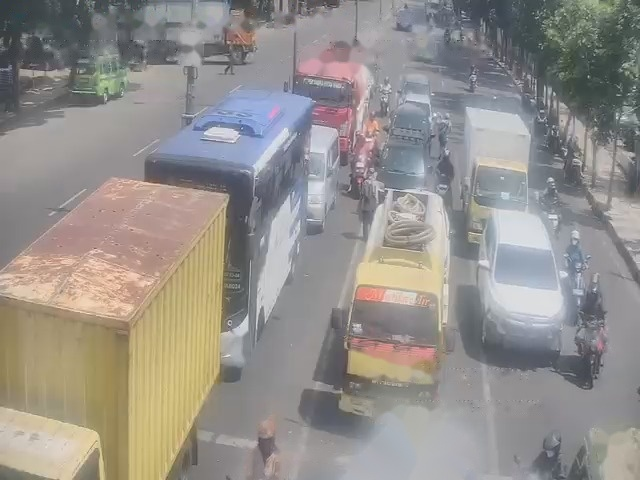Mobil: (485, 215, 559, 343)
Motor: (571, 255, 583, 297), (453, 175, 462, 212)
Truk: (3, 160, 257, 477), (330, 191, 449, 433), (464, 107, 528, 221)
